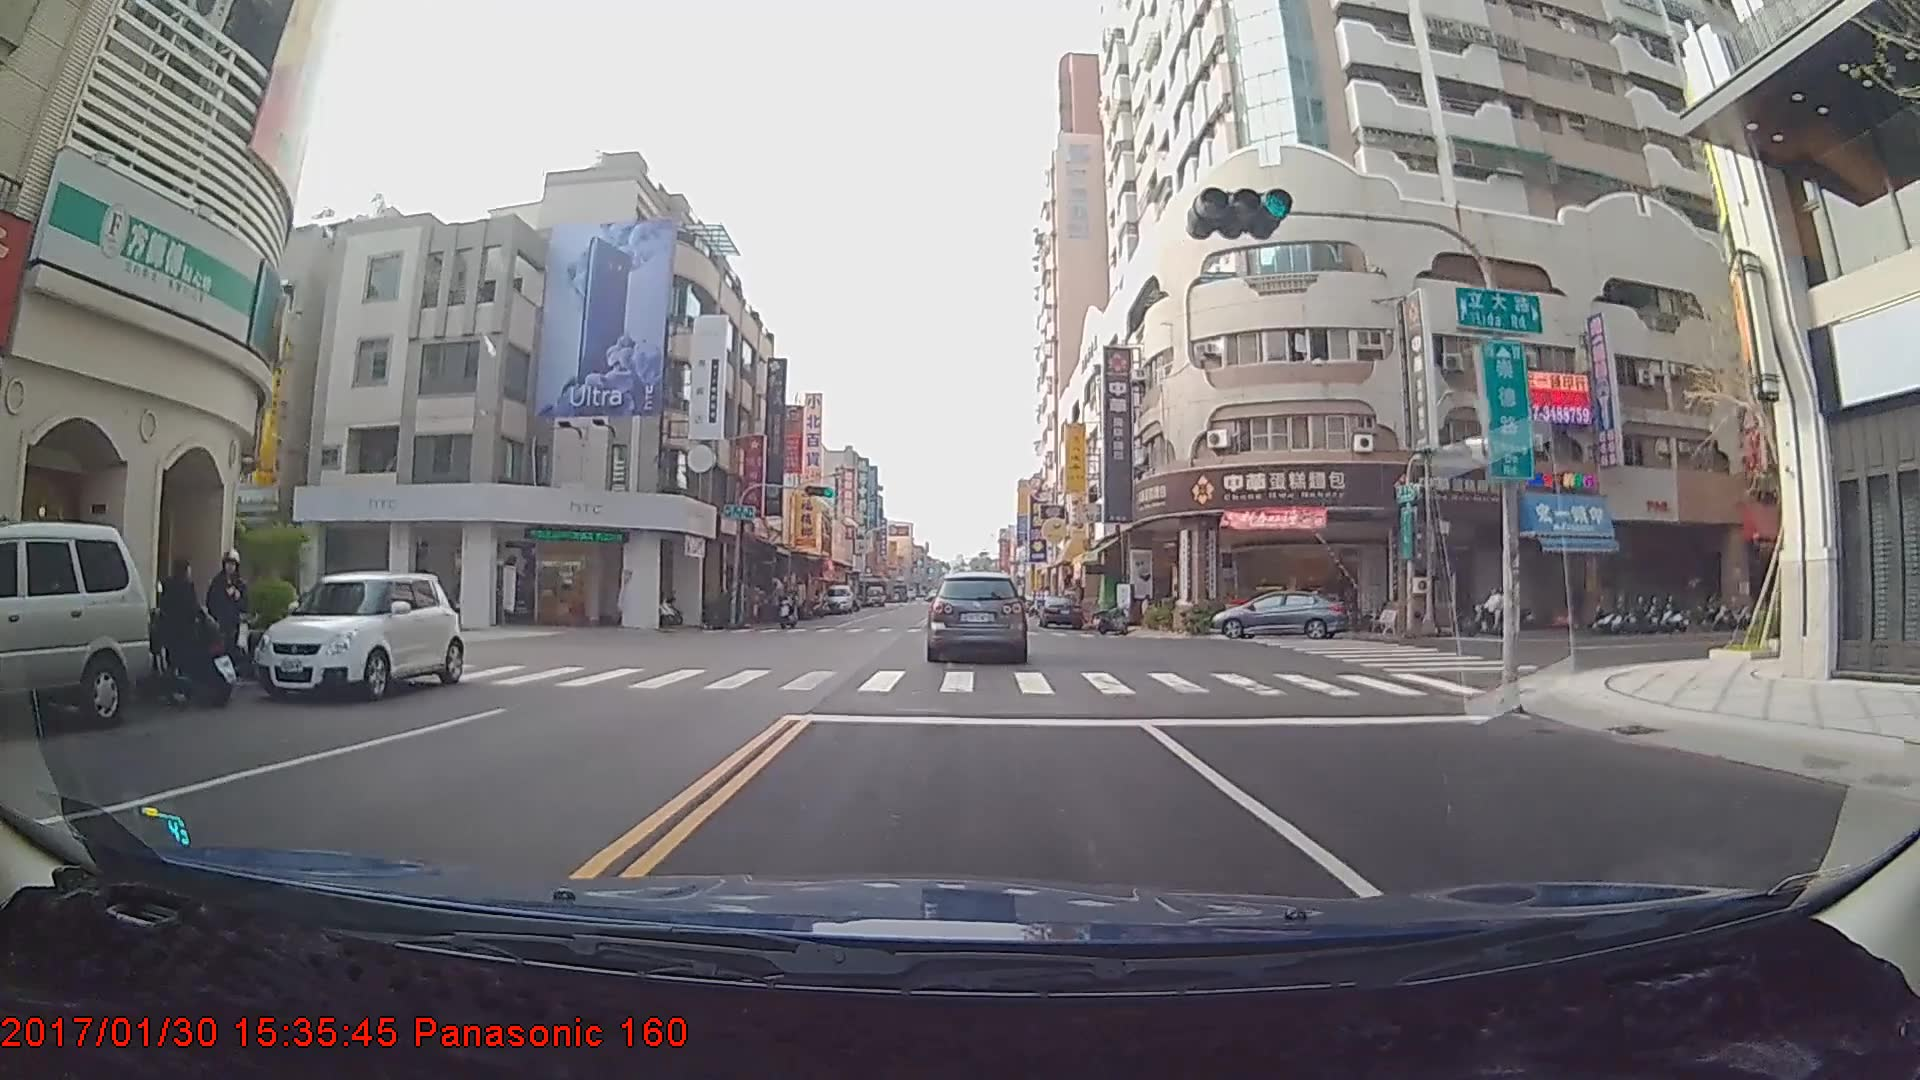pedestrian: (199, 545, 251, 695)
rider: (1460, 585, 1519, 636), (772, 585, 804, 632)
vehicle: (0, 520, 151, 732), (260, 571, 465, 702), (927, 573, 1026, 662), (1212, 587, 1351, 642), (1040, 594, 1084, 629), (823, 583, 854, 613)
